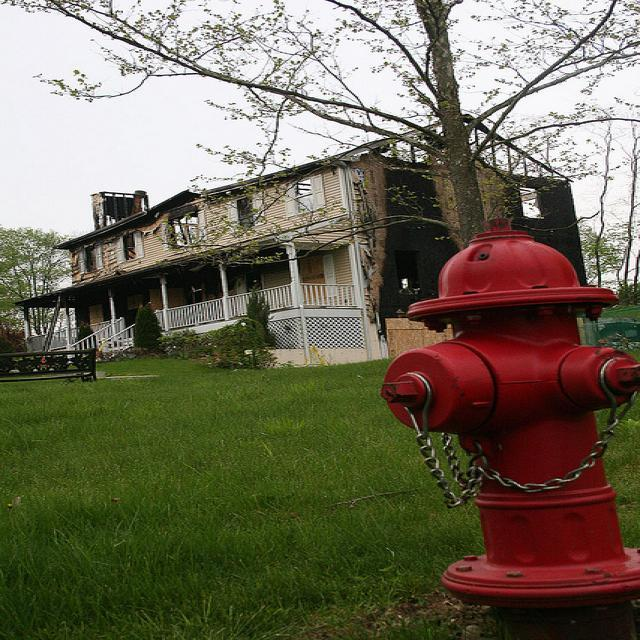fire_hydrant: (377, 218, 640, 637)
